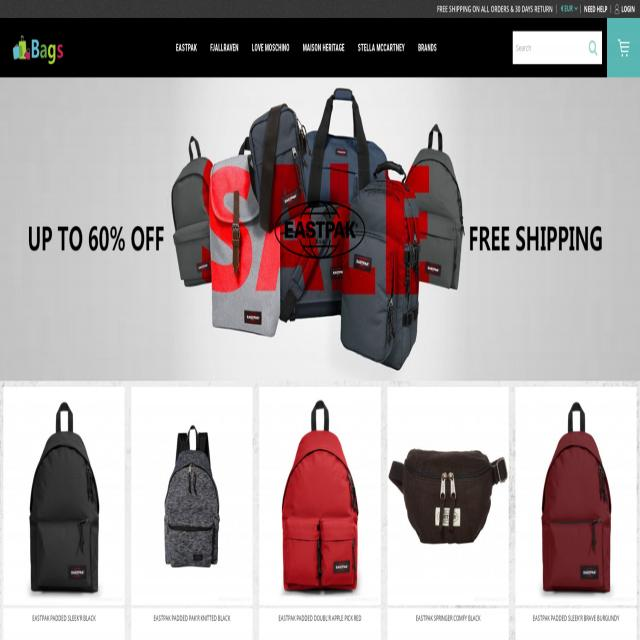button: (387, 385, 509, 606), (515, 388, 637, 607), (131, 388, 252, 608), (4, 387, 125, 606), (259, 388, 380, 606), (351, 18, 411, 77), (296, 18, 352, 77), (246, 18, 296, 77), (204, 18, 245, 77), (169, 18, 204, 77), (12, 28, 64, 66), (607, 18, 640, 76), (412, 18, 444, 77)
field: (513, 30, 602, 65)
